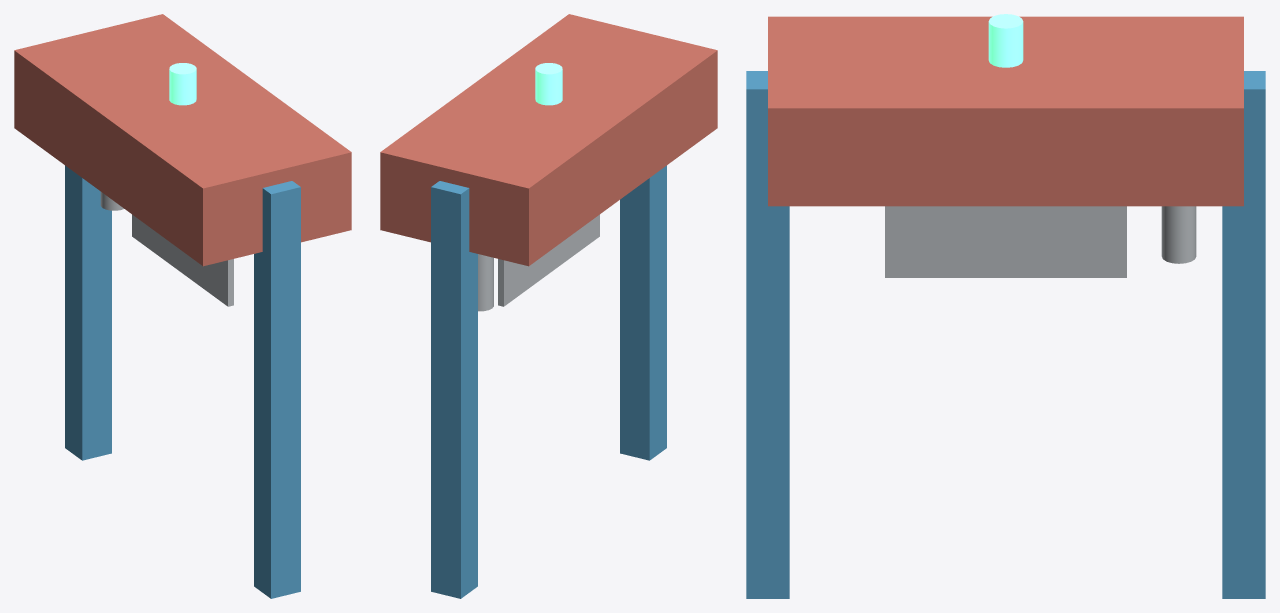
File: desviador_vidrio.glb
3 views of the same model, side by side, from view 1: azimuth 30°, elevation 25°; view 2: azimuth 150°, elevation 25°; view 3: azimuth 270°, elevation 25° (orthographic). The views are drawn at different scales.
Parts seen in each view (by area): view 1: carcasa_actuador, poste_der, poste_izq, compuerta_pivote, luz_estado; view 2: carcasa_actuador, poste_izq, poste_der, compuerta_pivote, luz_estado, actuador; view 3: carcasa_actuador, poste_izq, poste_der, compuerta_pivote, actuador, luz_estado.
Boxes of the visible parts, bbox=[...] form: carcasa_actuador: bbox=[14, 14, 351, 266]; poste_der: bbox=[254, 181, 300, 598]; poste_izq: bbox=[65, 165, 111, 460]; compuerta_pivote: bbox=[132, 214, 233, 306]; luz_estado: bbox=[169, 63, 196, 105]; carcasa_actuador: bbox=[380, 14, 717, 266]; poste_izq: bbox=[431, 181, 477, 598]; poste_der: bbox=[620, 165, 666, 460]; compuerta_pivote: bbox=[498, 214, 599, 306]; luz_estado: bbox=[535, 63, 562, 105]; actuador: bbox=[478, 254, 493, 311]; carcasa_actuador: bbox=[768, 16, 1243, 206]; poste_izq: bbox=[1222, 71, 1265, 598]; poste_der: bbox=[746, 71, 789, 598]; compuerta_pivote: bbox=[885, 206, 1126, 277]; actuador: bbox=[1161, 206, 1196, 263]; luz_estado: bbox=[988, 14, 1023, 67].
Bounding box in the file's own units: 0.5 × 1.45 × 1.2.
